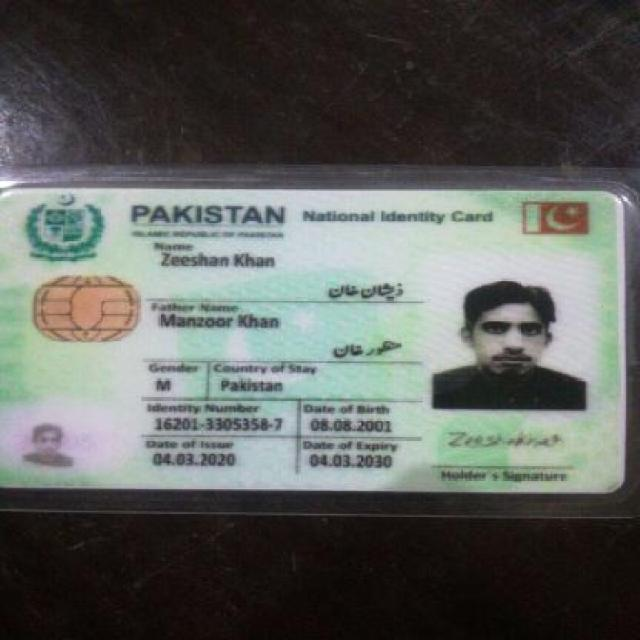Front: (2, 178, 636, 502)
